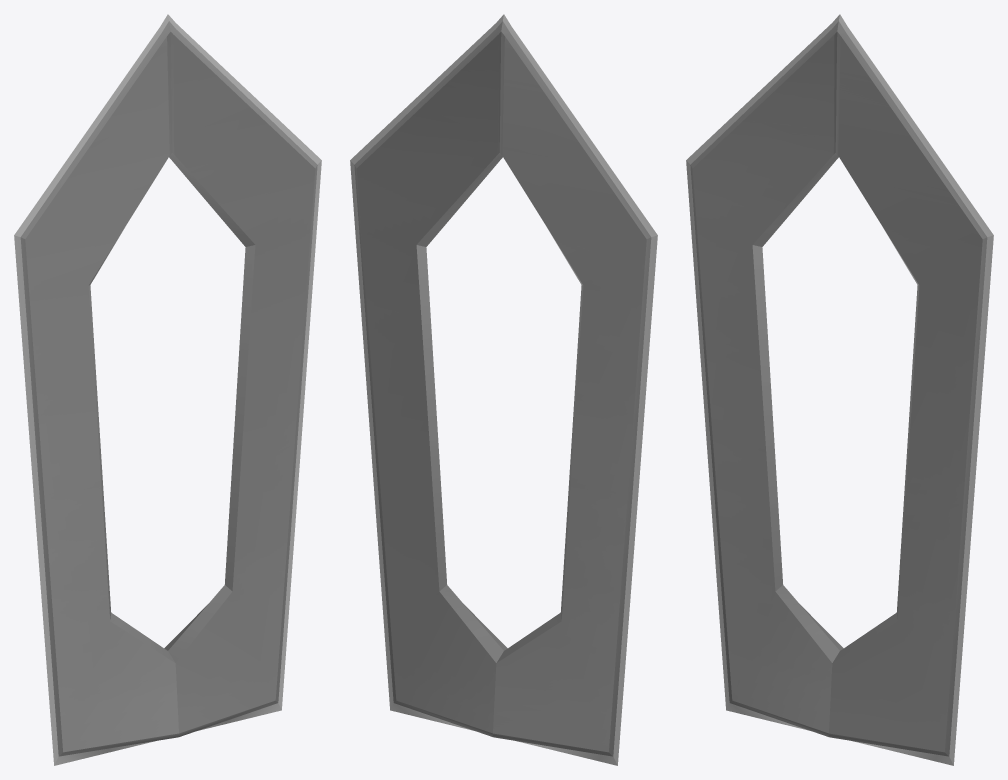
The model's file is stone_blade (6).glb.
3 renders of one model, left to right at view 1: azimuth 30°, elevation 25°; view 2: azimuth 150°, elevation 25°; view 3: azimuth 330°, elevation 25°, orthographic.
Visible parts, largest first — view 1: stone_blade_unscratched.026; view 2: stone_blade_unscratched.026; view 3: stone_blade_unscratched.026.
Boxes of the visible parts, box(x1,y1,x2,y2) form: stone_blade_unscratched.026: box(14, 14, 321, 765); stone_blade_unscratched.026: box(350, 14, 657, 765); stone_blade_unscratched.026: box(686, 14, 993, 765).
Size of the model in its own units: 5.08 by 11.42 by 0.6326.
Materials: 1 (1 with a texture image).
